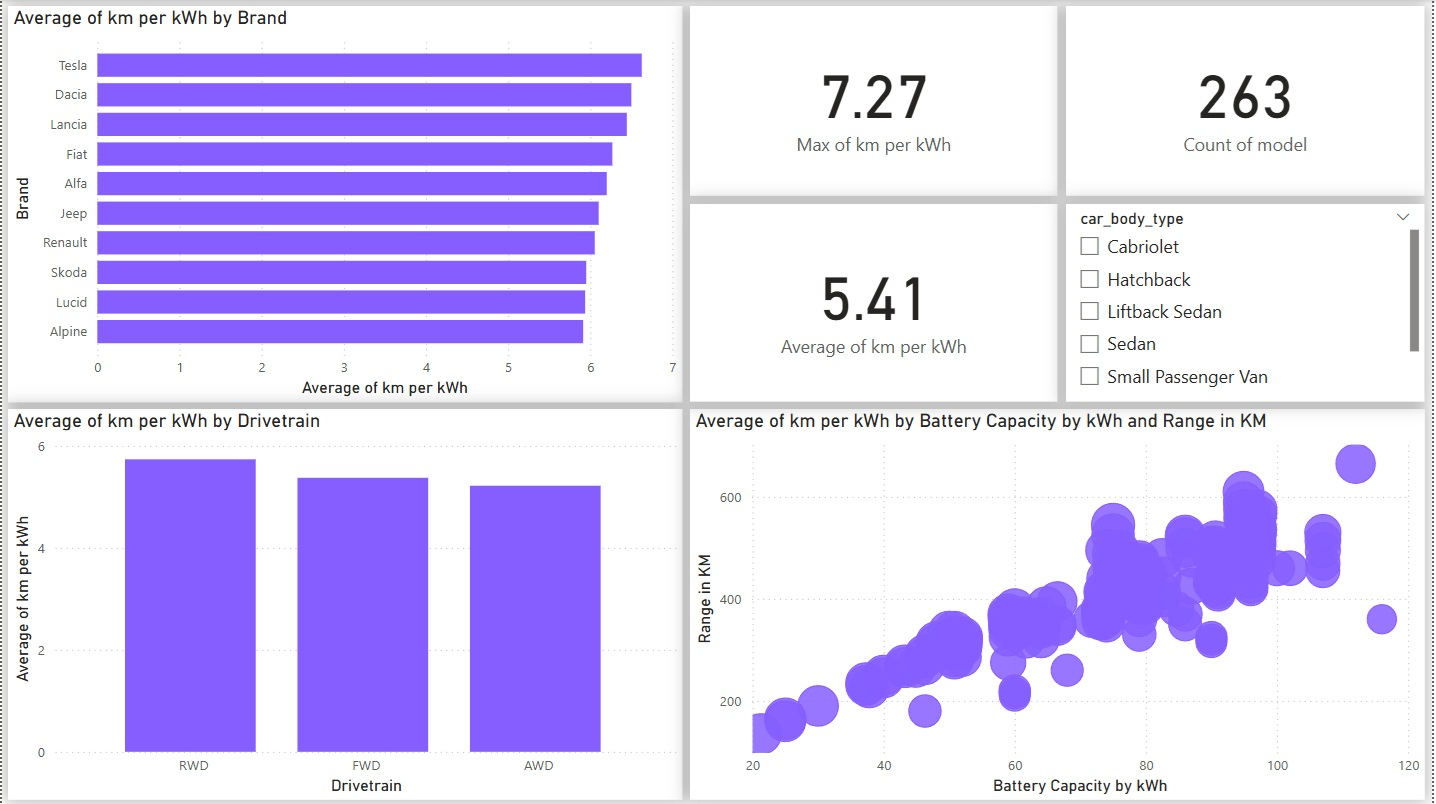

Layout of this report page (visuals, bound fields, positions):
{"tool":"powerbi","page":{"name":"Range Efficiency & EV Value Benchmark","canvas":[1280,720],"ordinal":1},"visuals":[{"type":"barChart","fields":{"Y":["Avg(ev_value_benchmark.km_per_kWh)"],"Category":["ev_value_benchmark.brand","ev_value_benchmark.model"]},"box":[5,5,604,355],"z":0},{"type":"clusteredColumnChart","fields":{"Category":["ev_value_benchmark.drivetrain"],"Y":["Avg(ev_value_benchmark.km per kWh)"]},"box":[5,366,604,350],"z":1000},{"type":"scatterChart","fields":{"X":["Sum(ev_value_benchmark.battery_capacity_kWh)"],"Y":["ev_value_benchmark.range_km"],"Size":["Avg(ev_value_benchmark.km per kWh)"]},"box":[616,366,658,350],"z":2000},{"type":"card","fields":{"Values":["Max(ev_value_benchmark.km per kWh)"]},"box":[616,5,329,170],"z":3000},{"type":"card","fields":{"Values":["Avg(ev_value_benchmark.km per kWh)"]},"box":[616,183,329,177],"z":4000},{"type":"card","fields":{"Values":["CountNonNull(ev_value_benchmark.model)"]},"box":[953,5,321,170],"z":5000},{"type":"slicer","fields":{"Values":["ev_value_benchmark.car_body_type"]},"box":[953,183,321,177],"z":6000}]}

Visuals, with their boxes in screenshot pixels (x1, y1, x2, y2), scaled from the page's 1280x720 canvas onto the 1436x804 screenshot:
barChart - Avg(ev_value_benchmark.km_per_kWh) x ev_value_benchmark.brand: left=6, top=6, right=683, bottom=402
clusteredColumnChart - ev_value_benchmark.drivetrain x Avg(ev_value_benchmark.km per kWh): left=6, top=409, right=683, bottom=800
scatterChart - Sum(ev_value_benchmark.battery_capacity_kWh) x ev_value_benchmark.range_km: left=691, top=409, right=1429, bottom=800
card - Max(ev_value_benchmark.km per kWh): left=691, top=6, right=1060, bottom=195
card - Avg(ev_value_benchmark.km per kWh): left=691, top=204, right=1060, bottom=402
card - CountNonNull(ev_value_benchmark.model): left=1069, top=6, right=1429, bottom=195
slicer - ev_value_benchmark.car_body_type: left=1069, top=204, right=1429, bottom=402
